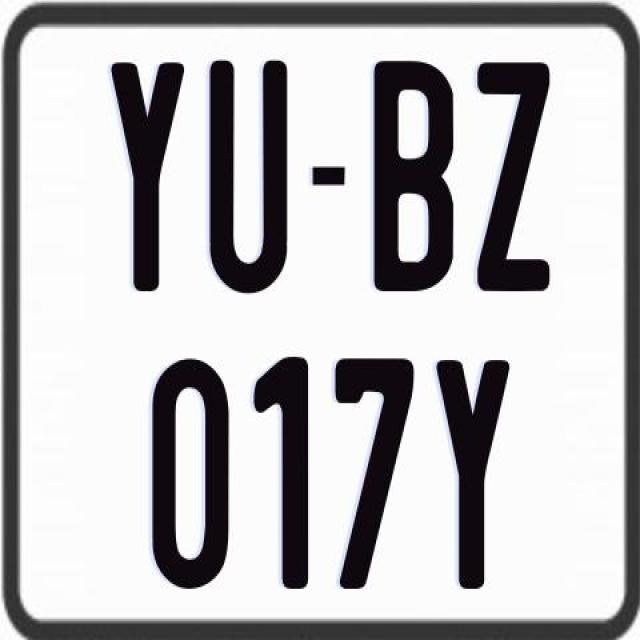0: (150, 358, 230, 597)
1: (250, 356, 310, 596)
7: (332, 357, 412, 596)
B: (373, 59, 455, 294)
U: (210, 61, 290, 294)
Y: (433, 360, 511, 595), (106, 62, 180, 292)
Z: (474, 59, 554, 298)
